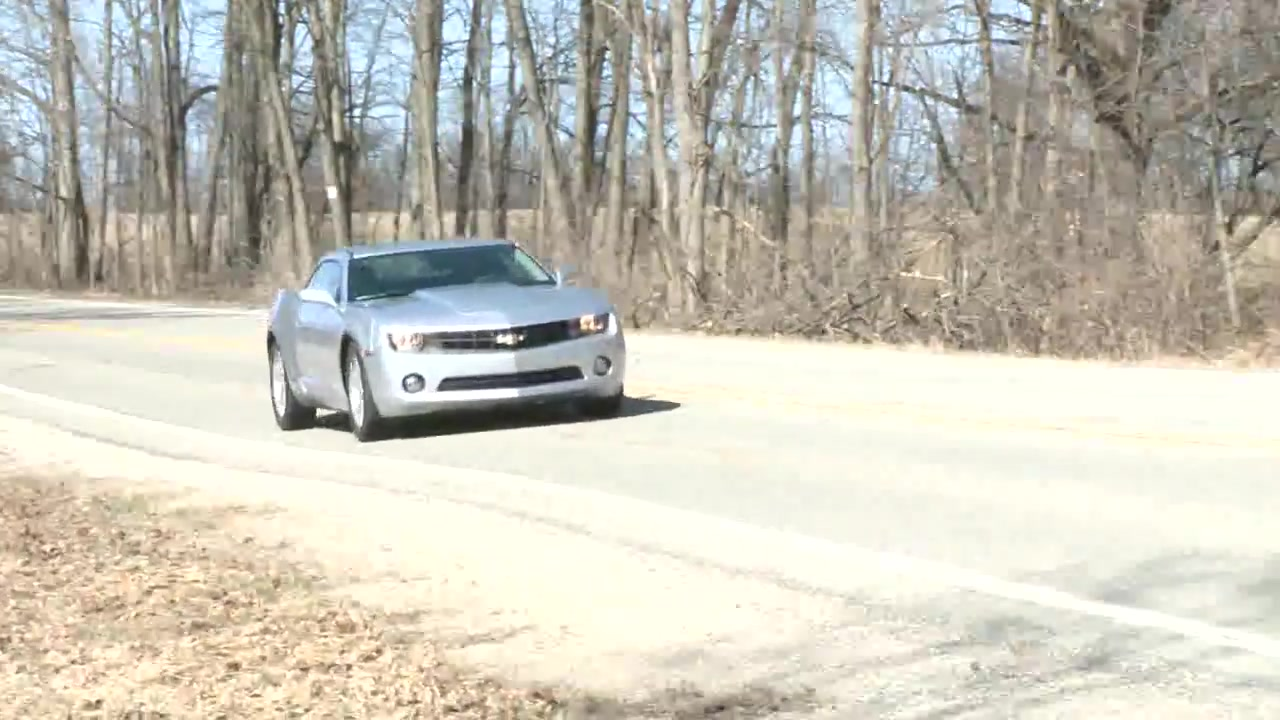car: (261, 240, 626, 442)
